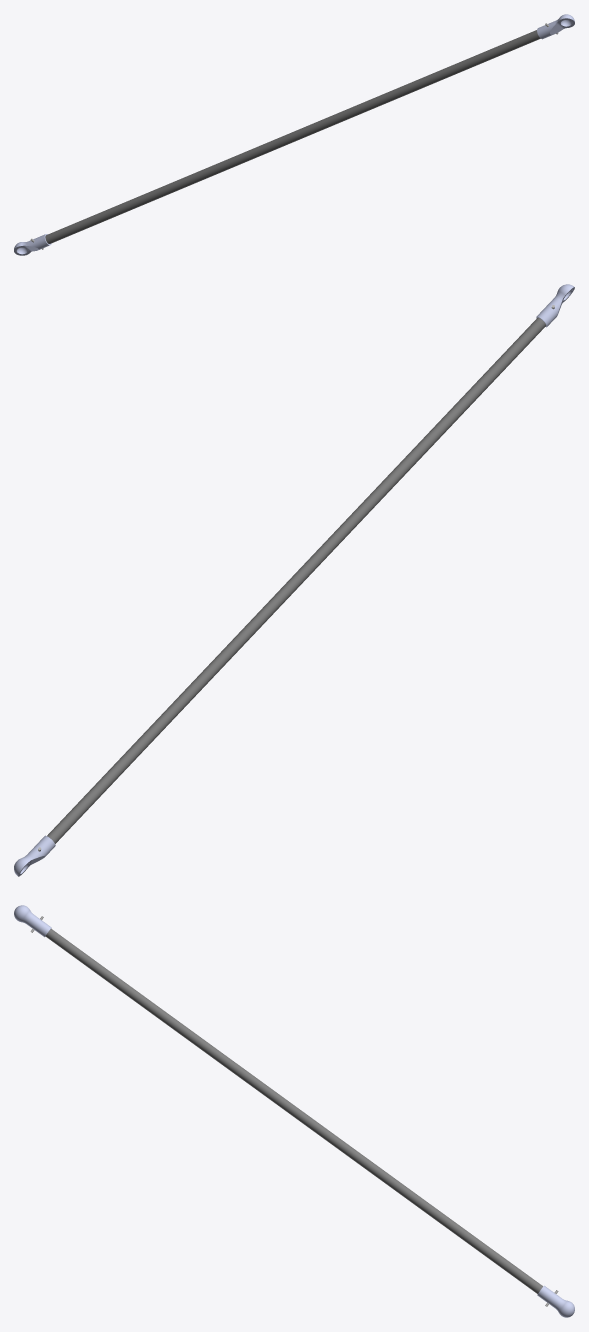
The picture shows the model from 3 angles, top to bottom: view 1: azimuth 90°, elevation 25°; view 2: azimuth 150°, elevation 25°; view 3: azimuth 270°, elevation 25°; orthographic projection. The views are drawn at different scales.
Visible parts, largest first — view 1: IRB360_6-1600-STD-4D_rev03_LA3_2_CAD.step1; view 2: IRB360_6-1600-STD-4D_rev03_LA3_2_CAD.step1; view 3: IRB360_6-1600-STD-4D_rev03_LA3_2_CAD.step1.
Boxes of the visible parts, left/top/right/bottom form: IRB360_6-1600-STD-4D_rev03_LA3_2_CAD.step1: left=14, top=14, right=574, bottom=255; IRB360_6-1600-STD-4D_rev03_LA3_2_CAD.step1: left=14, top=284, right=574, bottom=876; IRB360_6-1600-STD-4D_rev03_LA3_2_CAD.step1: left=14, top=905, right=574, bottom=1317.
Bounding box in the file's own units: 0.3477 × 0.5911 × 0.9213.
